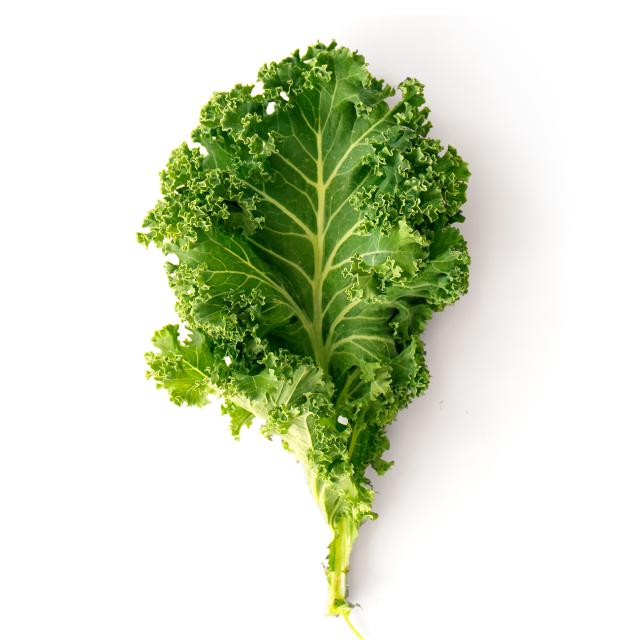organic: (138, 39, 475, 619)
